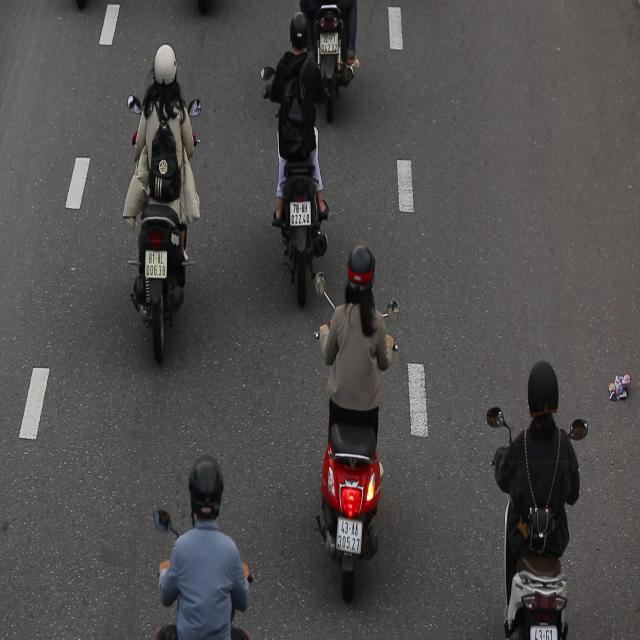motorbike: (311, 239, 393, 607), (123, 46, 199, 372), (260, 7, 328, 293)
